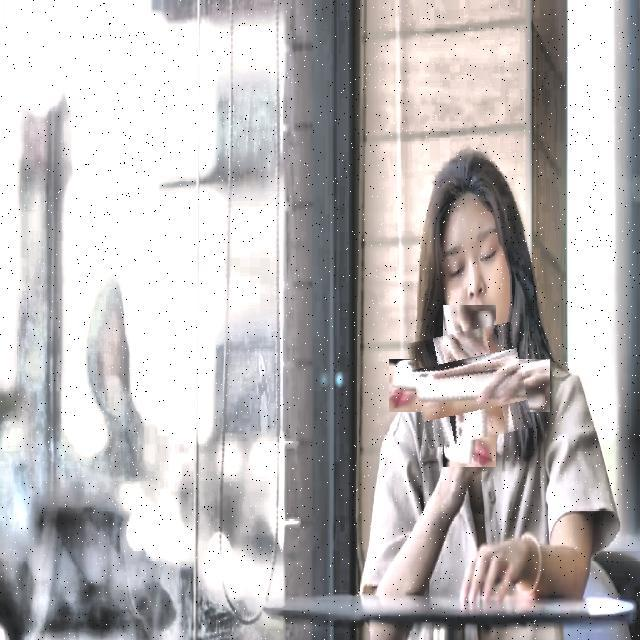Phone: (411, 328, 528, 444)
